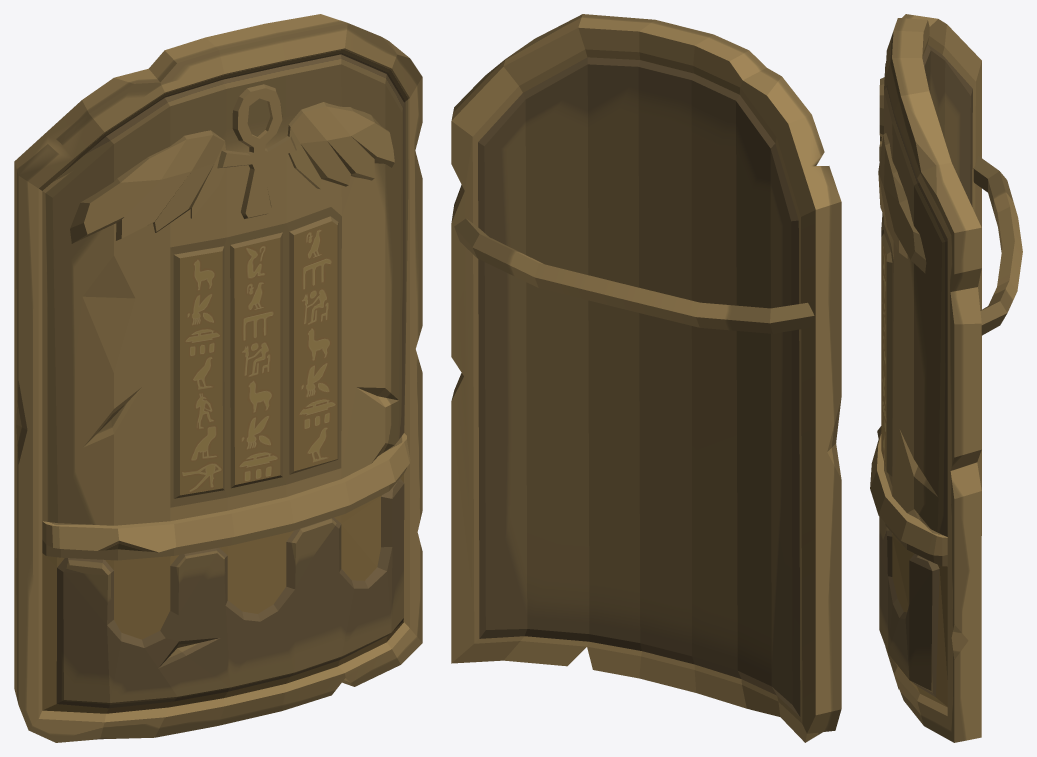
The model's file is SM_Wep_Shield_01.fbx.
The picture shows the model from 3 angles, left to right: view 1: azimuth 30°, elevation 25°; view 2: azimuth 150°, elevation 25°; view 3: azimuth 270°, elevation 25°; orthographic projection. The views are drawn at different scales.
Parts seen in each view (by area): view 1: SM_Wep_Shield_01; view 2: SM_Wep_Shield_01; view 3: SM_Wep_Shield_01.
Boxes of the visible parts, <box> form: SM_Wep_Shield_01: <box>14,14,422,742</box>; SM_Wep_Shield_01: <box>451,14,841,742</box>; SM_Wep_Shield_01: <box>870,14,1022,742</box>.
Size of the model in its own units: 64.93 by 104 by 23.63.
